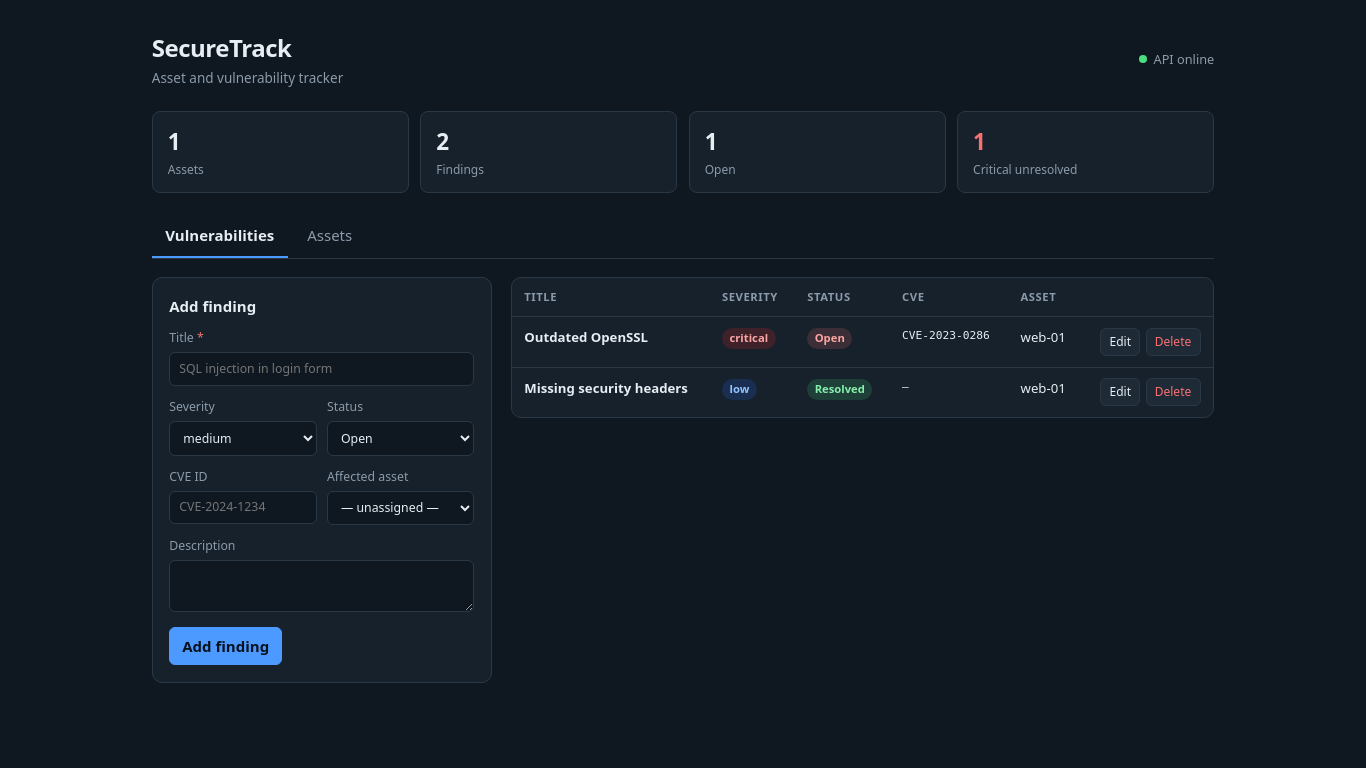
Test case: App › surfaces per-field validation errors from the server
Expected: the text "Outdated OpenSSL" is shown, [524,328,648,346]
Click the button "Add finding" at (226, 646), box [169,627,282,665]
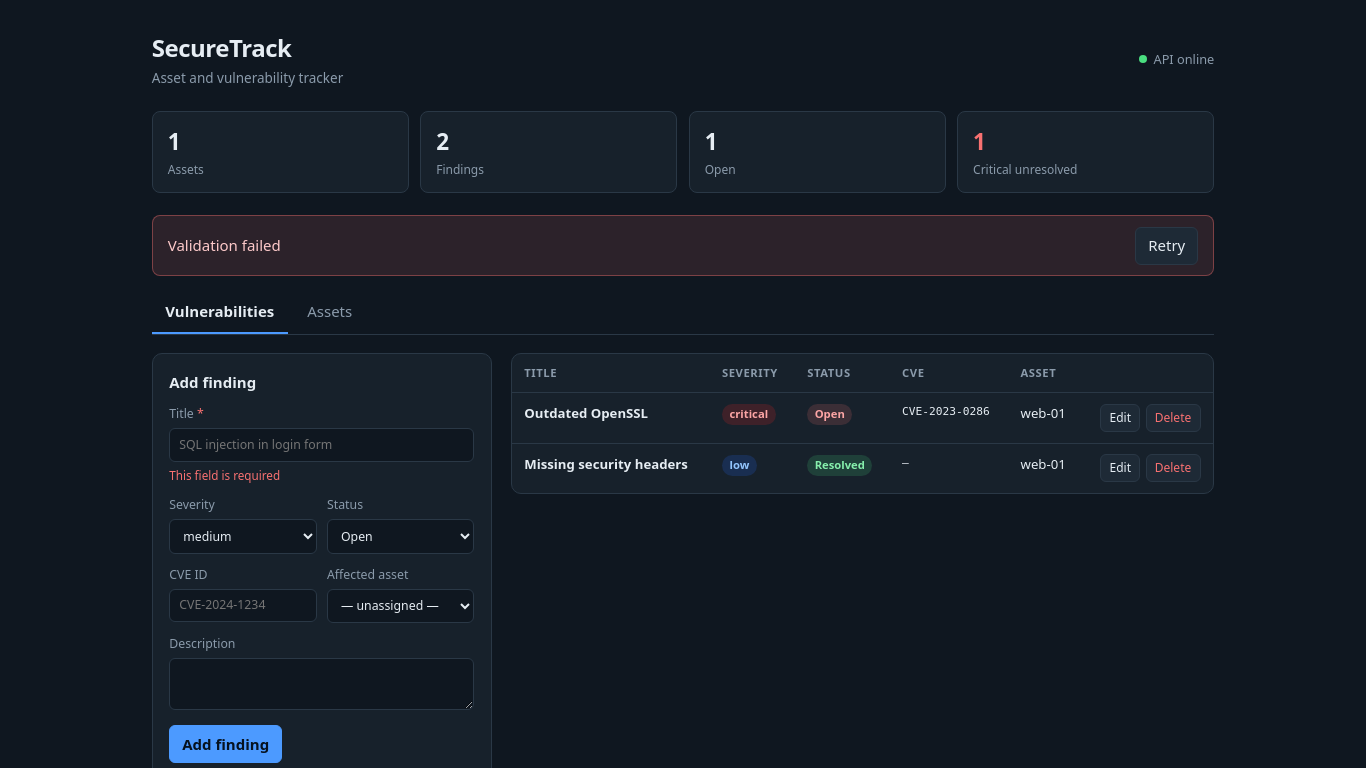
Result: the text "This field is required" is shown at [169,467,280,483]
Result: the message shows "Validation failed" at [168,235,281,255]
